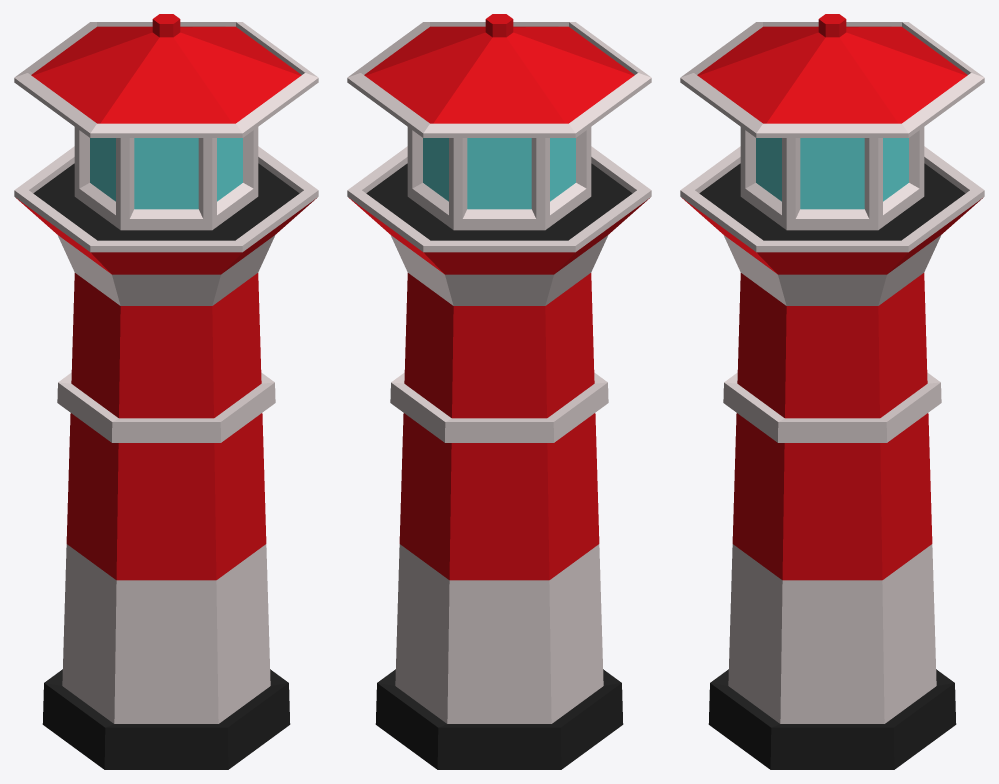
File: lighthouse.fbx
3 views of the same model, side by side, from view 1: azimuth 30°, elevation 25°; view 2: azimuth 150°, elevation 25°; view 3: azimuth 270°, elevation 25° (orthographic).
Parts seen in each view (by area): view 1: Cylinder; view 2: Cylinder; view 3: Cylinder.
Part boxes in pixels (x1,y1,x2,y2): Cylinder: (14, 14, 318, 769); Cylinder: (347, 14, 651, 769); Cylinder: (680, 14, 984, 769).
Size of the model in its own units: 288 by 849 by 332.
